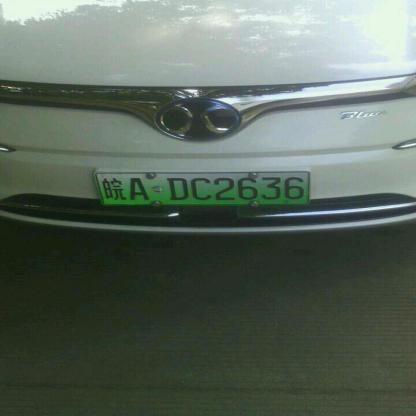lp: (94, 171, 309, 205)
